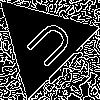U: (17, 17, 76, 76)
